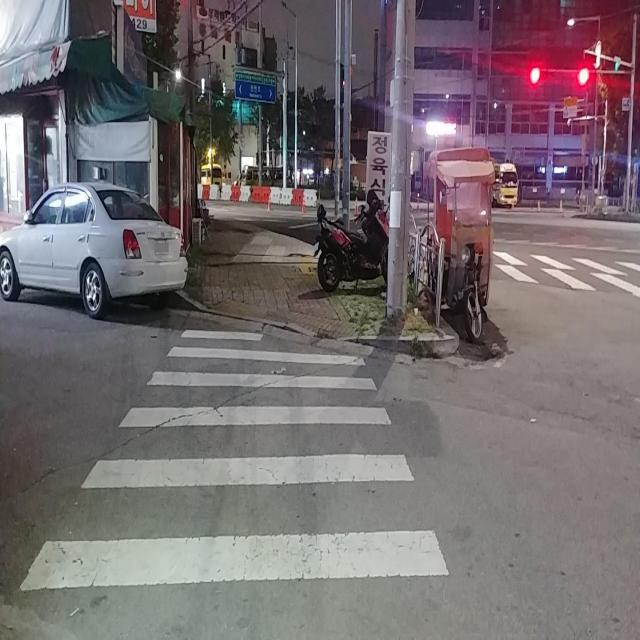횡단보도: (17, 326, 451, 596), (495, 243, 640, 297)
